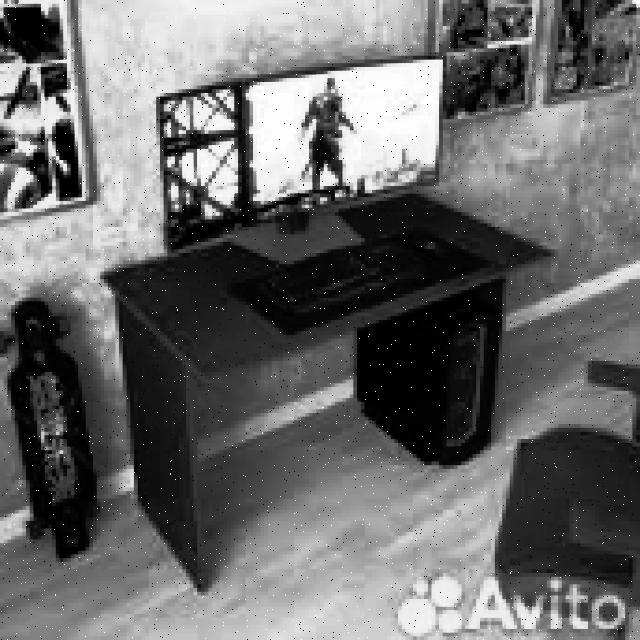table: (97, 186, 554, 588)
